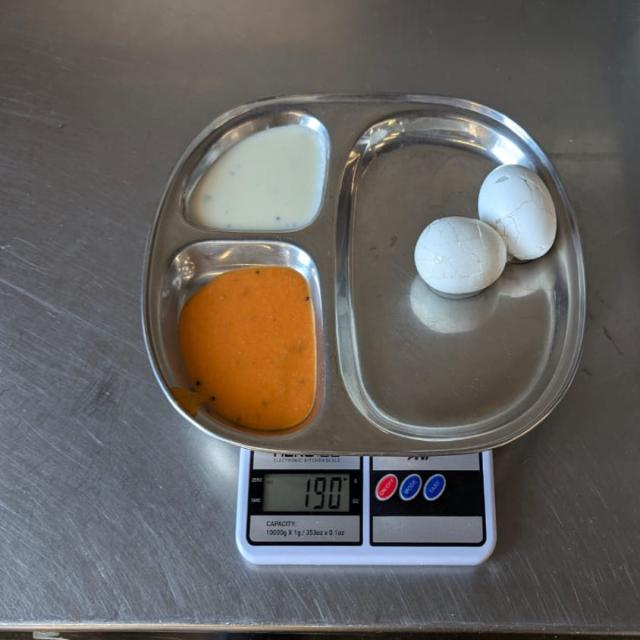Boiled Egg: (412, 164, 560, 302)
Chutney: (176, 262, 323, 431), (183, 119, 329, 233)
